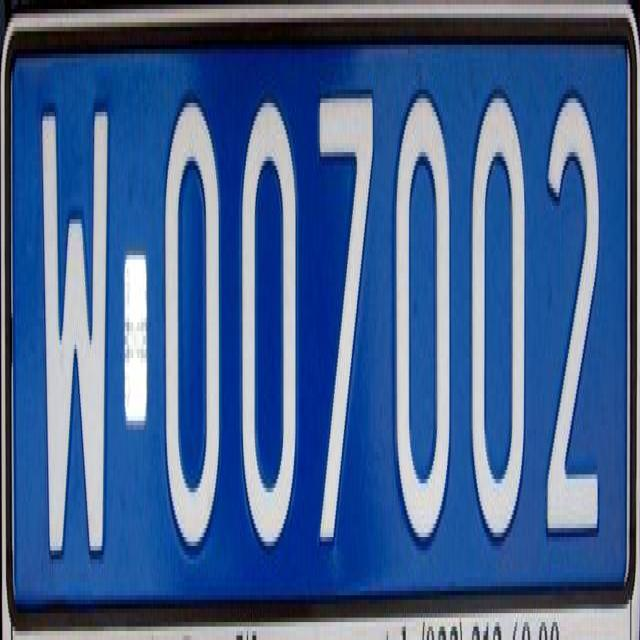pl_license_plate: (7, 32, 630, 596)
